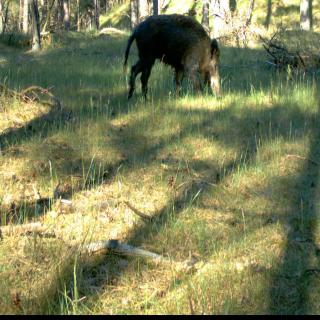Pig: (118, 8, 240, 102)
